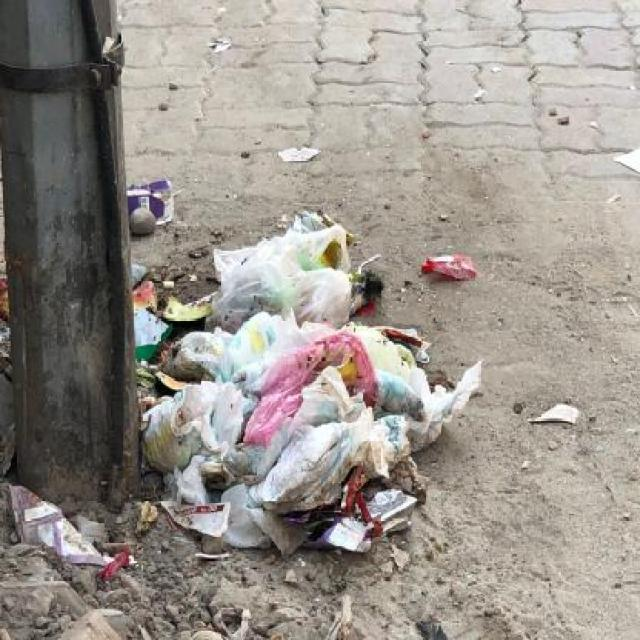garbage: (125, 168, 500, 554), (11, 480, 130, 574), (531, 399, 598, 426), (270, 139, 323, 169), (603, 140, 640, 182), (0, 283, 13, 382), (202, 34, 242, 56)
